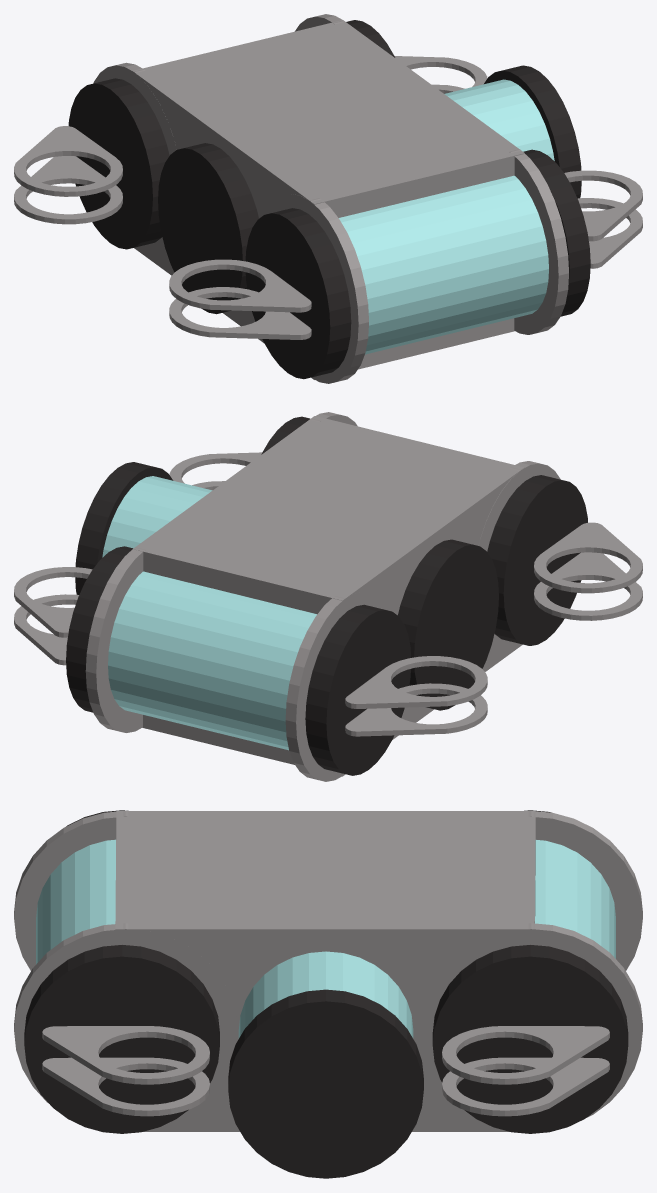
File: leviathan.dae
3 renders of one model, top to bottom at view 1: azimuth 30°, elevation 25°; view 2: azimuth 150°, elevation 25°; view 3: azimuth 270°, elevation 25°, orthographic. The views are drawn at different scales.
Parts seen in each view (by area): view 1: Cube, Cube.004, Cylinder.005, Cylinder.003, Cylinder.002, Cube.009, Cube.001, Cube.002, Cylinder.008, Cylinder.004, Cylinder.013, Cylinder (+6 smaller); view 2: Cube, Cube.003, Cylinder.005, Cylinder.002, Cylinder.003, Cube.005, Cube.008, Cube.002, Cylinder.013, Cylinder.008, Cylinder, Cylinder.001 (+6 smaller); view 3: Cube, Cylinder, Cylinder.001, Cylinder.004, Cube.009, Cube.004, Cube.003, Cube.002, Cube.008, Cylinder.012, Cylinder.015, Cube.005 (+3 smaller).
Part boxes in pixels (x1,y1,x2,y2): Cube: [132, 20, 524, 379]; Cube.004: [339, 175, 548, 354]; Cylinder.005: [158, 143, 258, 314]; Cylinder.003: [245, 208, 351, 379]; Cylinder.002: [68, 78, 169, 249]; Cube.009: [509, 149, 568, 334]; Cube.001: [268, 194, 368, 383]; Cube.002: [444, 79, 554, 160]; Cylinder.008: [169, 259, 311, 312]; Cylinder.004: [523, 149, 590, 316]; Cylinder.013: [14, 126, 122, 196]; Cylinder: [484, 65, 581, 198]; Cube: [133, 416, 524, 776]; Cube.003: [108, 571, 316, 750]; Cylinder.005: [398, 539, 498, 710]; Cylinder.002: [305, 604, 411, 775]; Cylinder.003: [487, 475, 587, 645]; Cube.005: [85, 547, 145, 732]; Cube.008: [285, 592, 385, 781]; Cube.002: [102, 476, 212, 557]; Cylinder.013: [345, 656, 487, 708]; Cylinder.008: [534, 522, 642, 593]; Cylinder: [75, 462, 173, 594]; Cylinder.001: [66, 546, 132, 712]; Cube: [115, 811, 535, 1131]; Cylinder: [228, 989, 423, 1178]; Cylinder.001: [432, 945, 628, 1133]; Cylinder.004: [24, 945, 219, 1133]; Cube.009: [14, 923, 237, 1125]; Cube.004: [36, 839, 115, 964]; Cube.003: [535, 840, 615, 958]; Cube.002: [238, 951, 413, 1038]; Cube.008: [528, 811, 642, 970]; Cylinder.012: [42, 1026, 209, 1084]; Cylinder.015: [442, 1026, 609, 1084]; Cube.005: [419, 923, 642, 1117].
Bounding box in the file's own units: 4.37 × 4.5 × 1.6.
